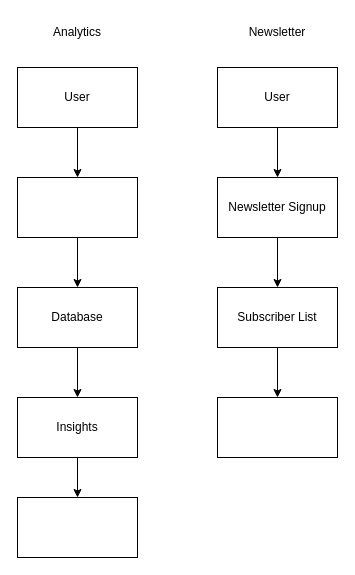
Some shapes in this 355 by 575 pixel diagram are drawn without their labels. The shapes that lost their labels are listed below. From the top down, each one's centre as x and y in pixels, then its label:
At [77,207]: "Analytics Event".
At [277,427]: "Email Updates".
At [77,527]: "Future Website Improvements".
